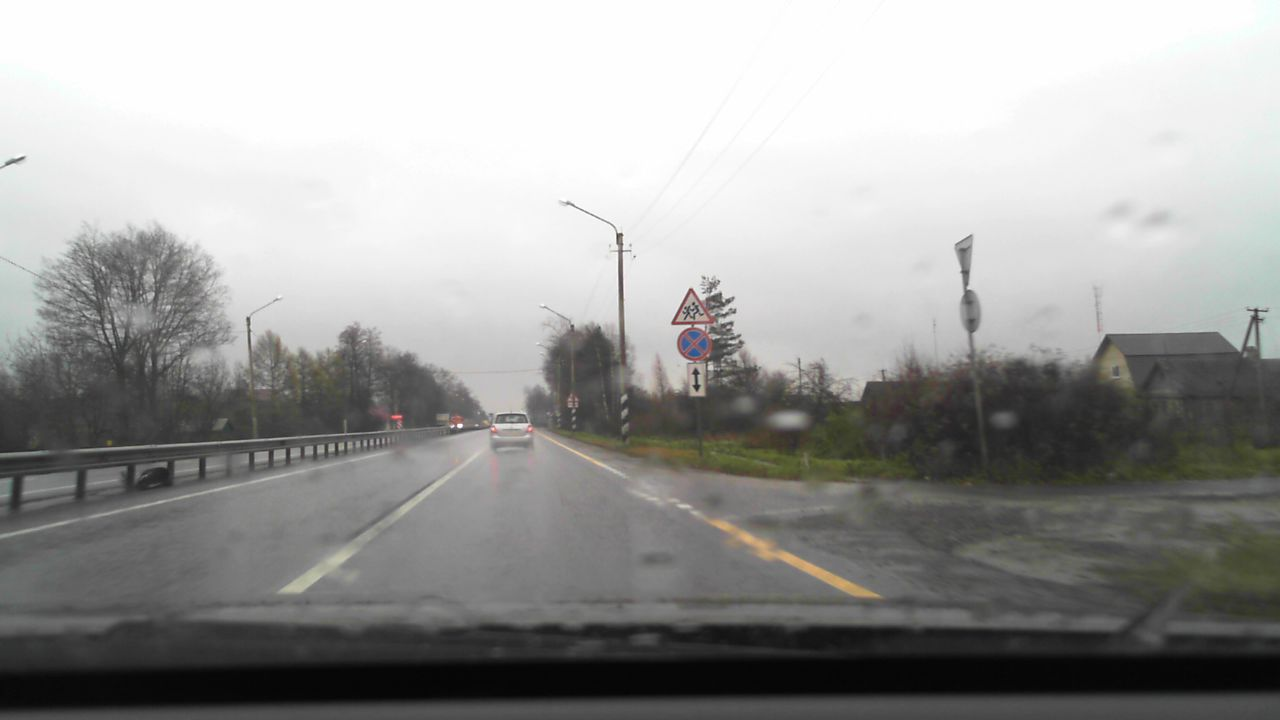No Parking: (677, 327, 711, 360)
